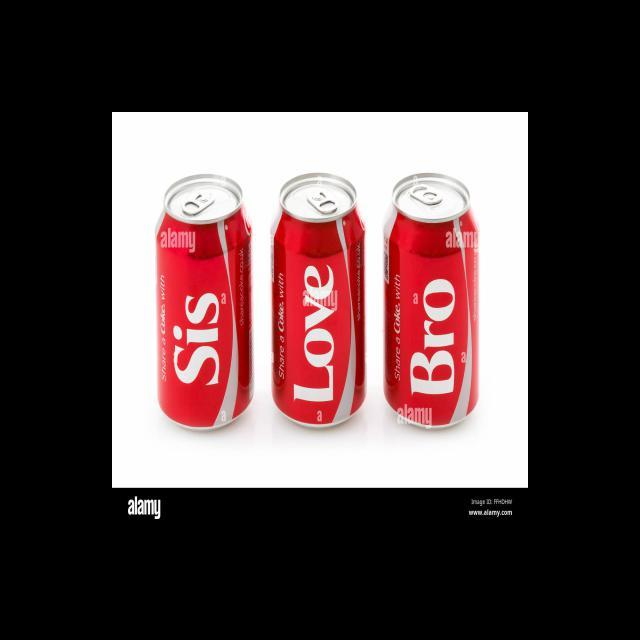metal: (148, 170, 262, 440), (378, 170, 492, 440), (265, 167, 375, 445)
